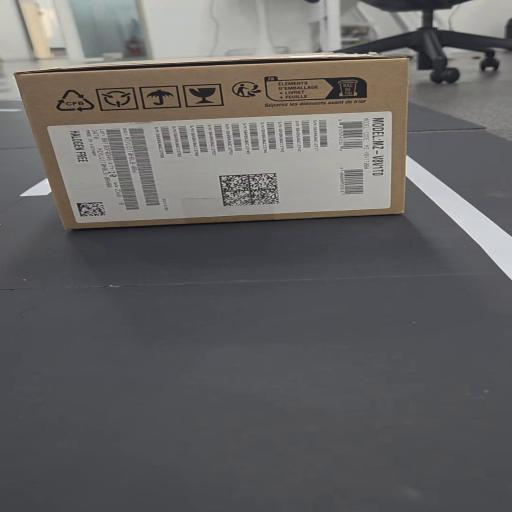Box: (16, 53, 423, 246)
